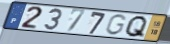2: (20, 6, 44, 30)
3: (43, 8, 64, 31)
7: (63, 9, 87, 35), (88, 10, 107, 35)
G: (104, 14, 128, 36)
Q: (123, 15, 149, 39)
